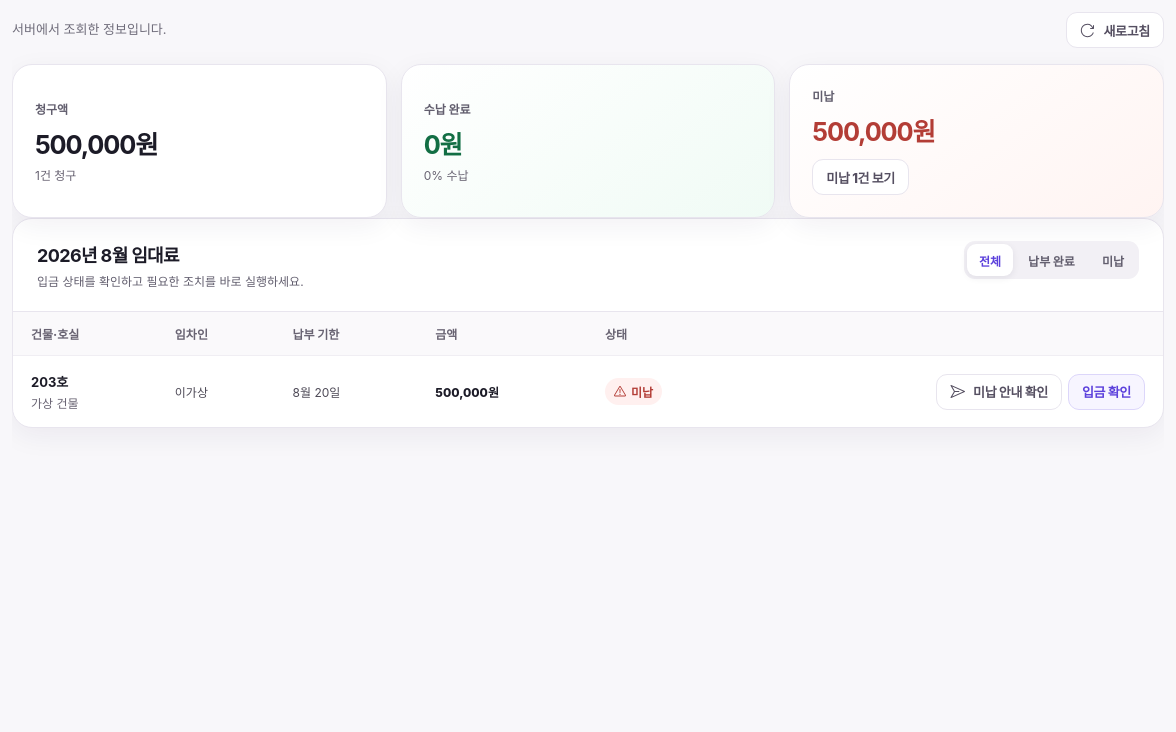
Test: 실제 Query 캐시를 사용하는 운영 화면 › 변경 실패를 자동 재실행하거나 납부 완료로 표시하지 않는다
Click the button "입금 확인" at [1106, 392], box [1068, 374, 1145, 410]
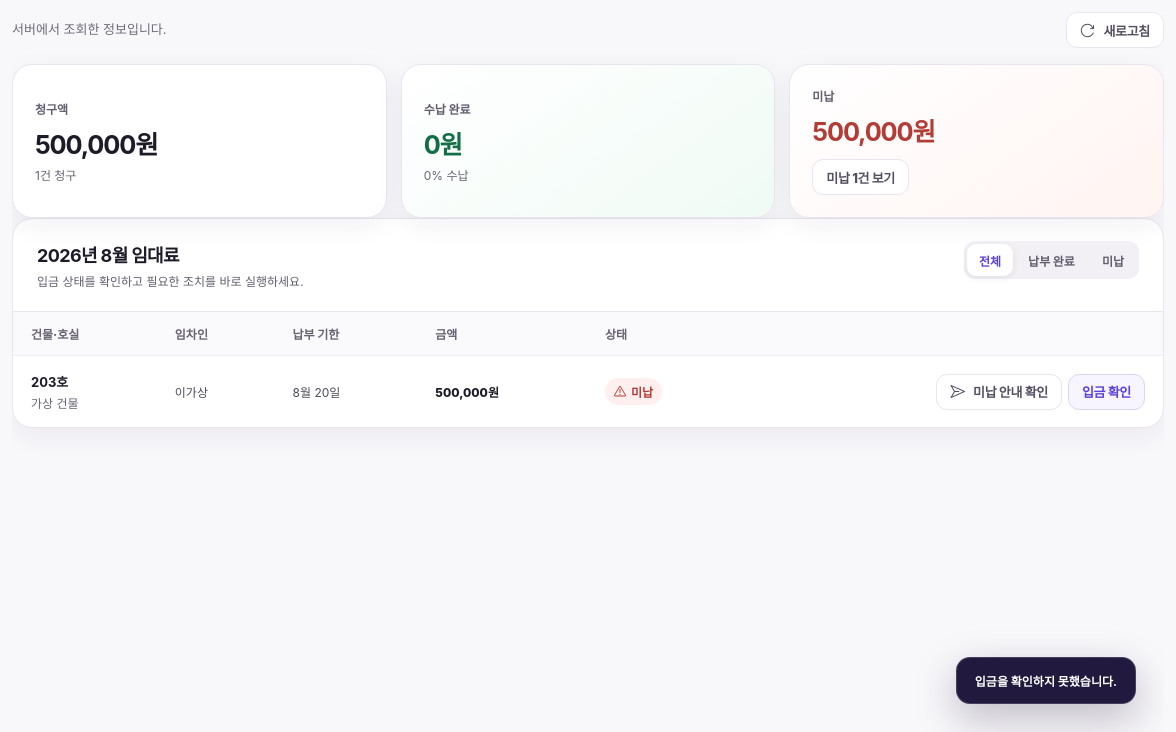
Expected: the text "입금을 확인하지 못했습니다." is shown, [956, 657, 1136, 704]
